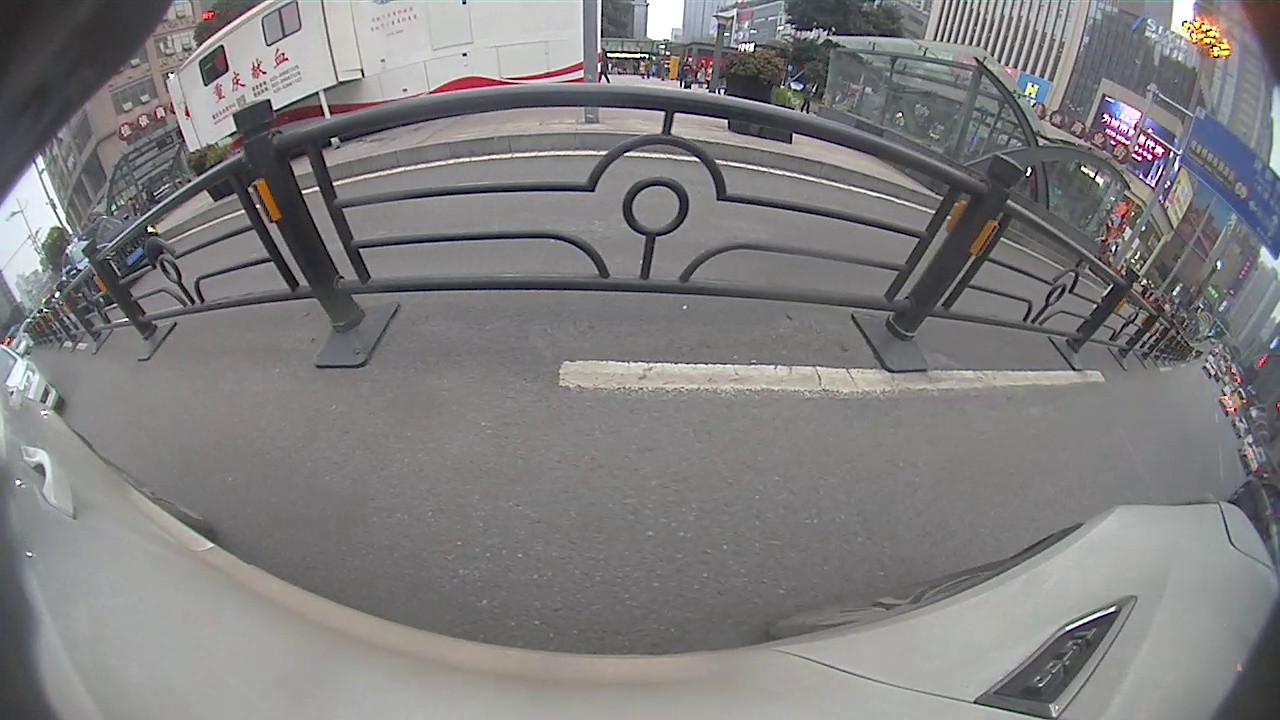car: (59, 216, 164, 304)
